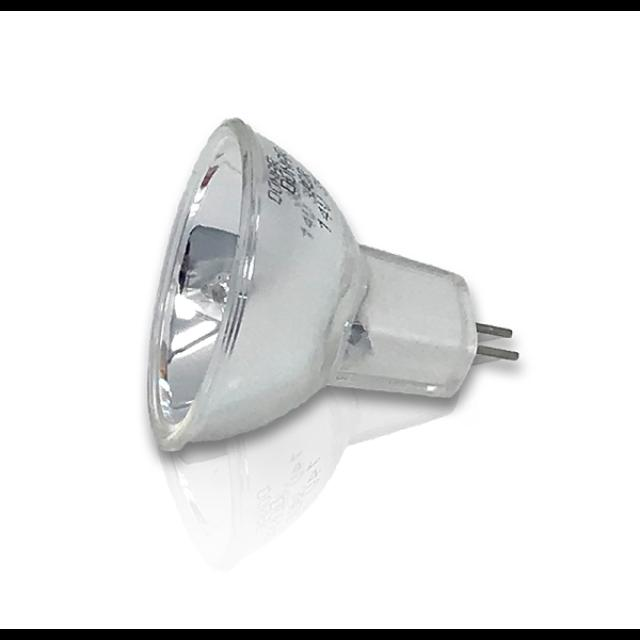light_bulb: (138, 114, 530, 466)
